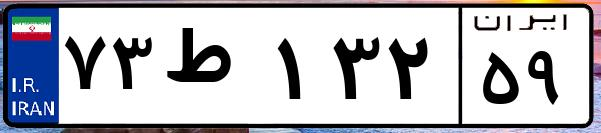1: (270, 28, 330, 110)
2: (385, 28, 445, 110)
3: (330, 28, 385, 110), (110, 28, 158, 98)
5: (475, 38, 525, 113)
7: (57, 26, 110, 100)
9: (525, 38, 570, 115)
ط: (158, 20, 270, 120)
